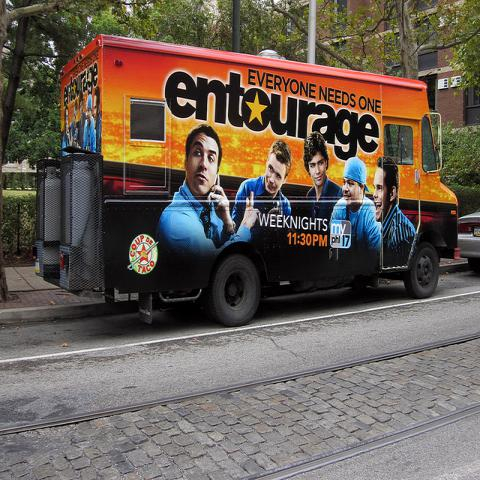car: (458, 205, 480, 275)
truck: (33, 39, 459, 327)
